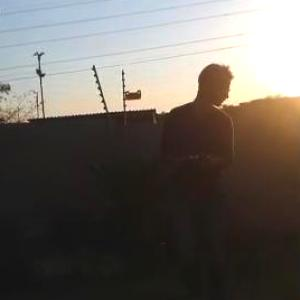follow: (152, 60, 241, 299)
